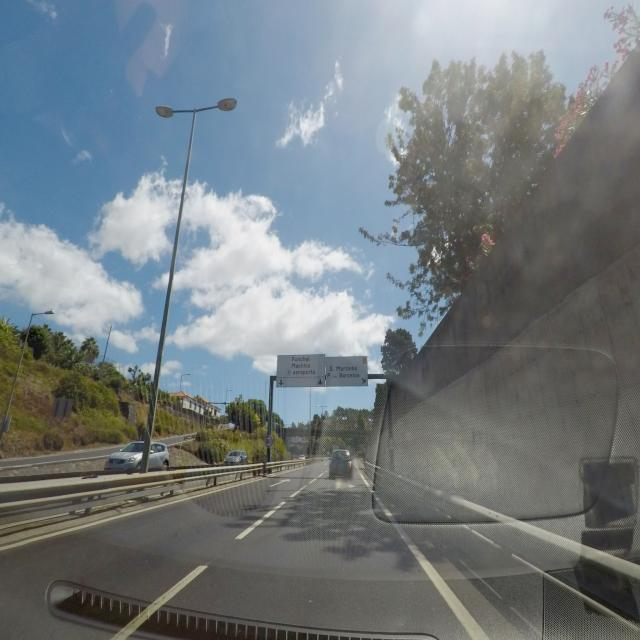car: (104, 440, 170, 474), (328, 448, 354, 479), (224, 449, 248, 465)
